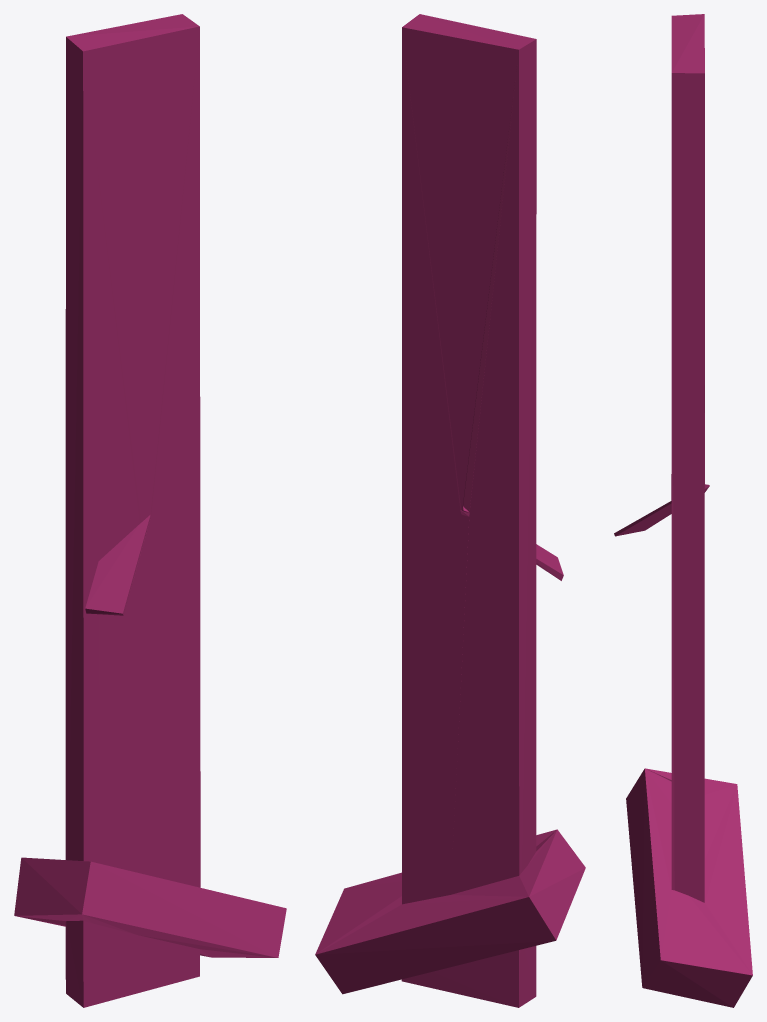
3 renders of one model, left to right at view 1: azimuth 30°, elevation 25°; view 2: azimuth 150°, elevation 25°; view 3: azimuth 270°, elevation 25°, orthographic. The views are drawn at different scales.
Visible parts, largest first — view 1: 958_Cube.3877; view 2: 958_Cube.3877; view 3: 958_Cube.3877.
Part boxes in pixels (<box>): 958_Cube.3877: <box>14,14,286,1007</box>; 958_Cube.3877: <box>315,14,585,1007</box>; 958_Cube.3877: <box>614,14,752,1007</box>.
Size of the model in its own units: 3.18 by 12.19 by 1.67.
